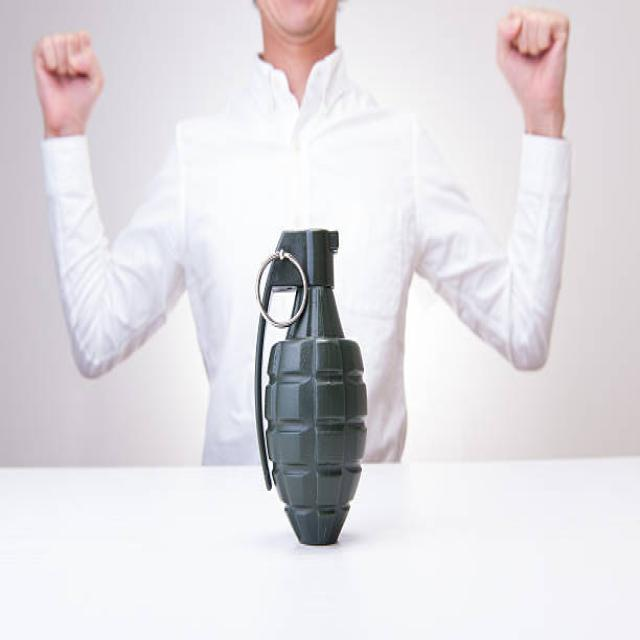grenade: (246, 222, 376, 553)
